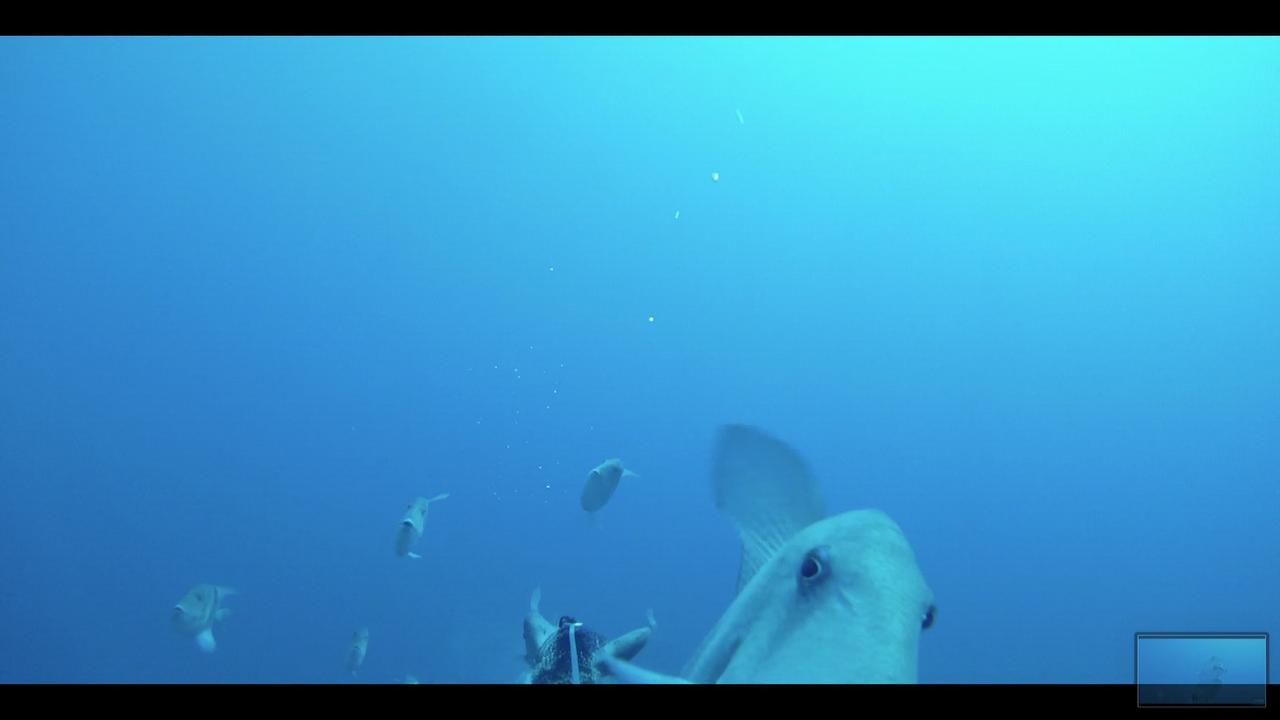balistes: (660, 426, 958, 688), (155, 575, 252, 653), (377, 485, 467, 569), (565, 450, 647, 527)
